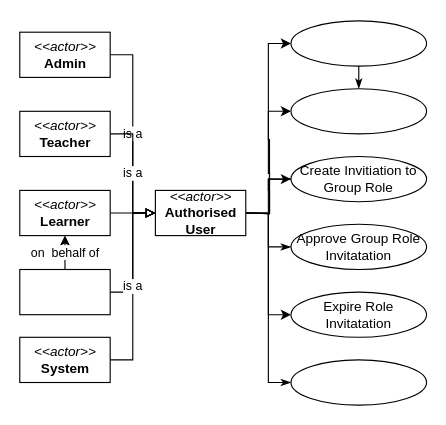
This 446x425 diagram has some shape labels left out. The box of each missing label's shape, as (x1, y1, x2, y2) in pixels:
<<actor>> Whānau: (19, 268, 110, 315)
Accept Group Role Invitatation: (290, 359, 427, 405)
View Filtered list of Group Role Invitations: (290, 20, 427, 66)
View Group Role Invitation: (290, 88, 427, 134)
